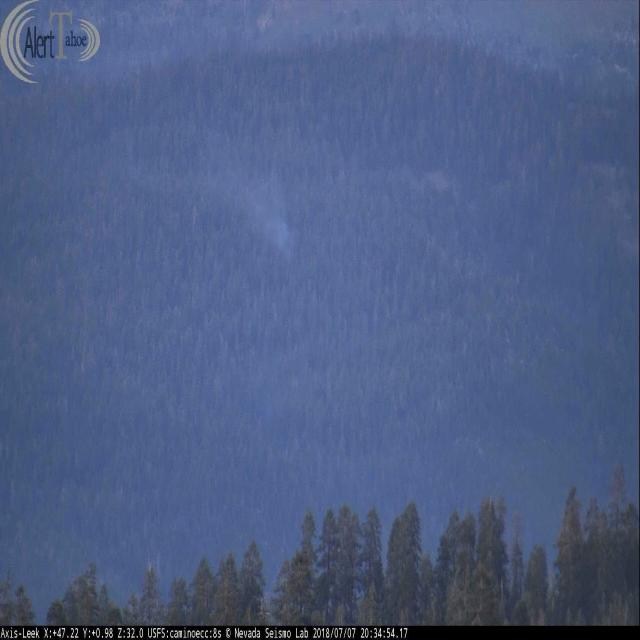smoke: (254, 192, 296, 262)
